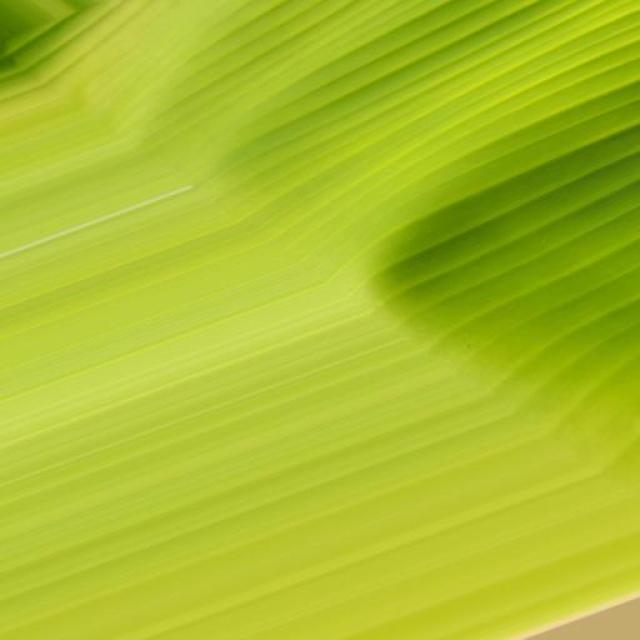Black_leaf_spot: (35, 0, 584, 543)
